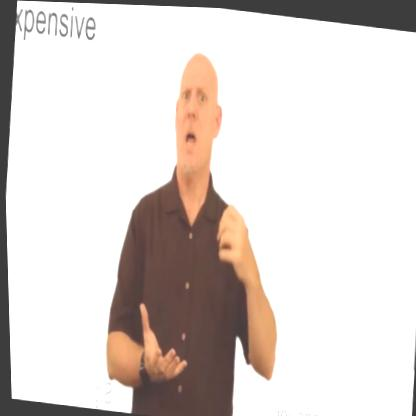Expensive: (84, 35, 305, 416)
